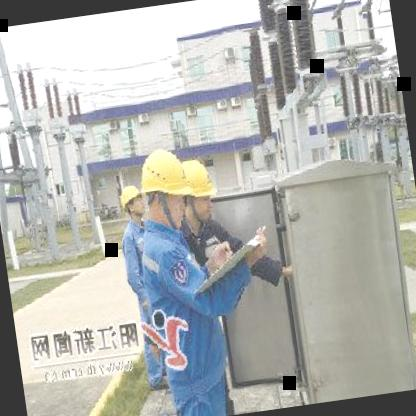helmet: (134, 140, 193, 230), (177, 152, 220, 231), (115, 180, 150, 225)
